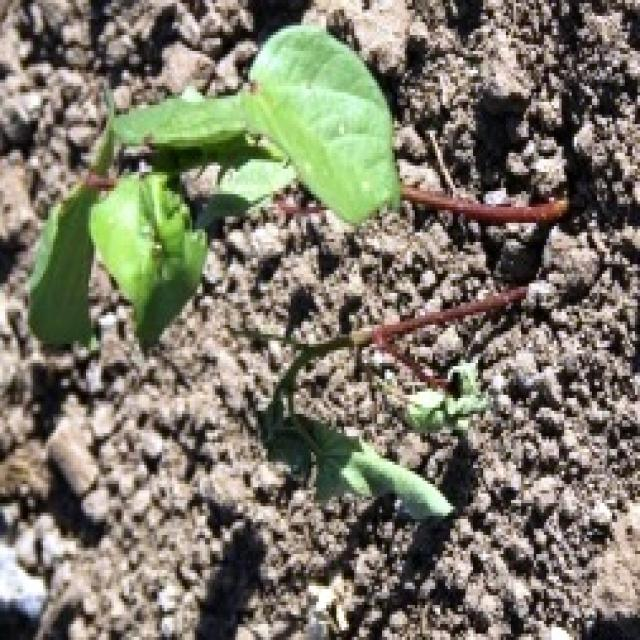Fusarium Wilt: (43, 59, 572, 491)
